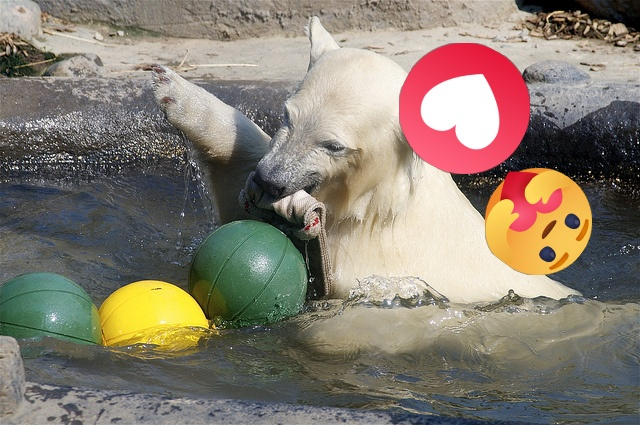care: (485, 168, 592, 275)
love: (399, 43, 530, 174)
